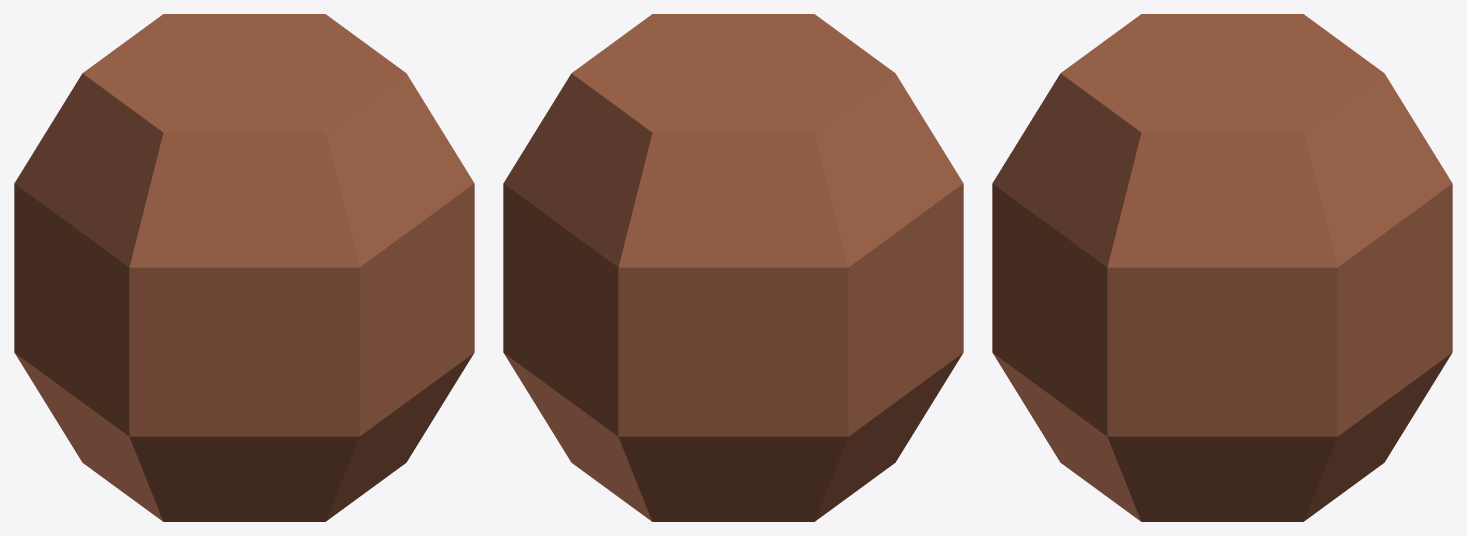
File: seed.obj
3 views of the same model, side by side, from view 1: azimuth 30°, elevation 25°; view 2: azimuth 150°, elevation 25°; view 3: azimuth 270°, elevation 25° (orthographic).
Visible parts, largest first — view 1: pit; view 2: pit; view 3: pit.
Boxes of the visible parts, x1,y1,x2,y2 form: pit: (14, 14, 474, 521); pit: (503, 14, 963, 521); pit: (992, 14, 1452, 521).
Bounding box in the file's own units: 0.0571 × 0.0615 × 0.0659.
